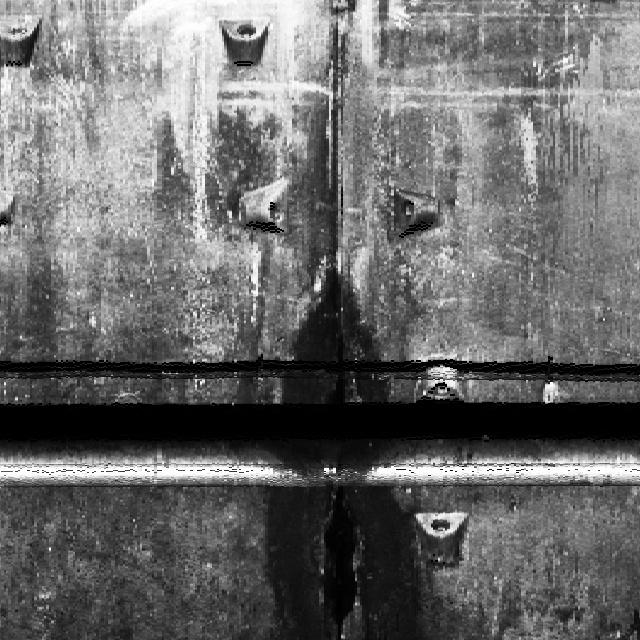leakage: (259, 256, 428, 638)
